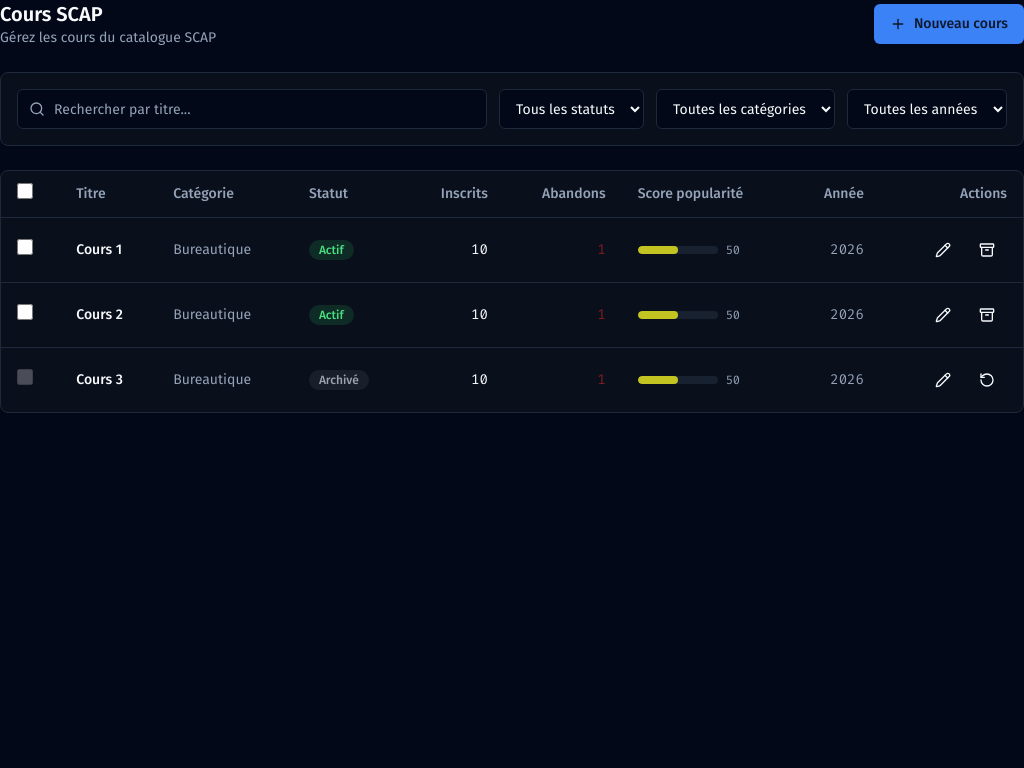
Scenario: Confirmation › annonce le nombre exact avant d’agir
This screenshot has width=1024, height=768.
Expected: the text "Cours 1" is shown, 60,218 -> 157,282
Click the checkbox named "Sélectionner tous les cours actifs affichés". click: (25,191)
box: 17,183 -> 33,199
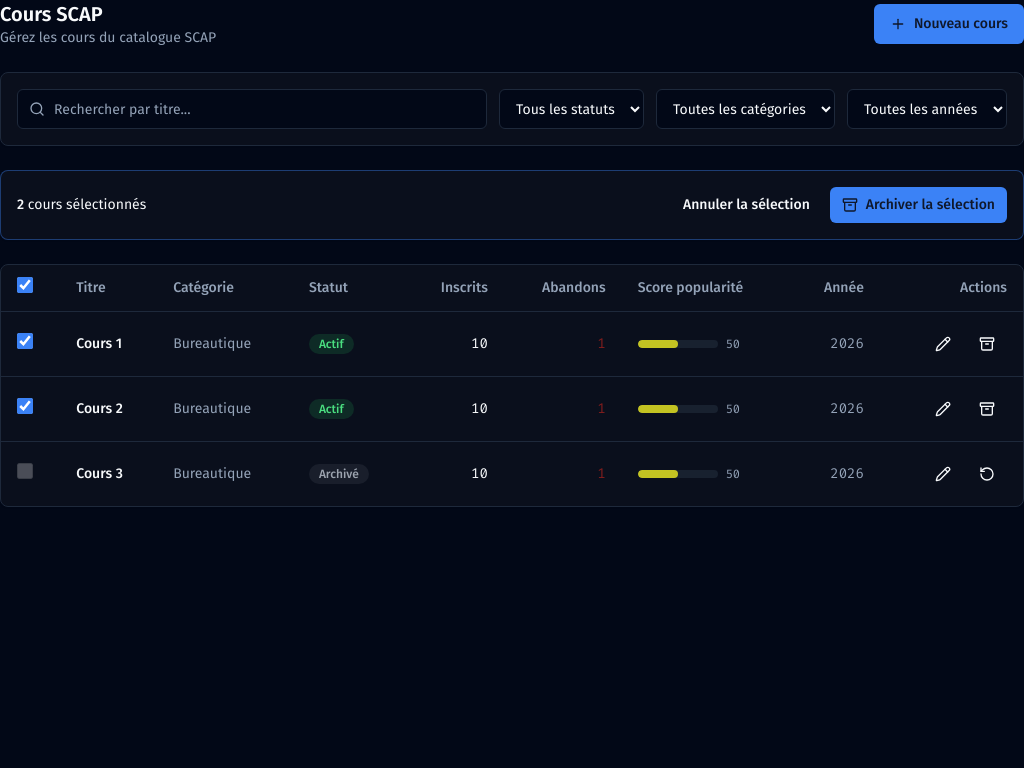
Click the button "Archiver la sélection". click: (918,205)
box: 830,187 -> 1007,223
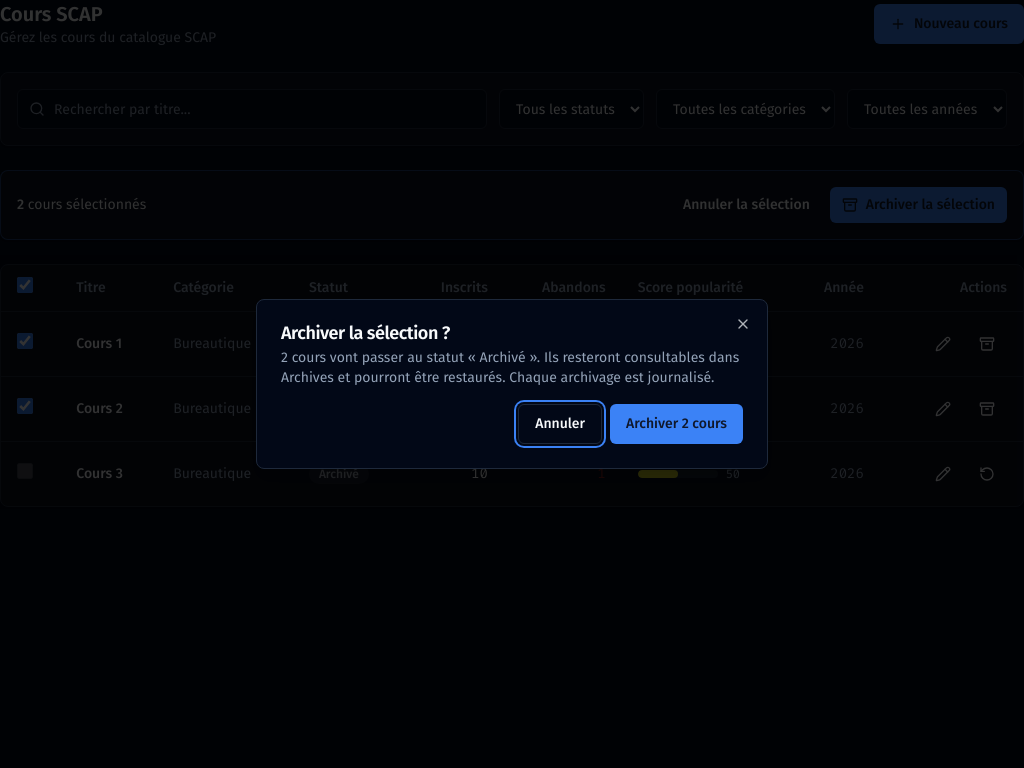
Now the text "2 cours vont passer au statut" is shown, box 281,348 -> 743,388
Now the button "Archiver 2 cours" is shown, box 610,404 -> 743,444
